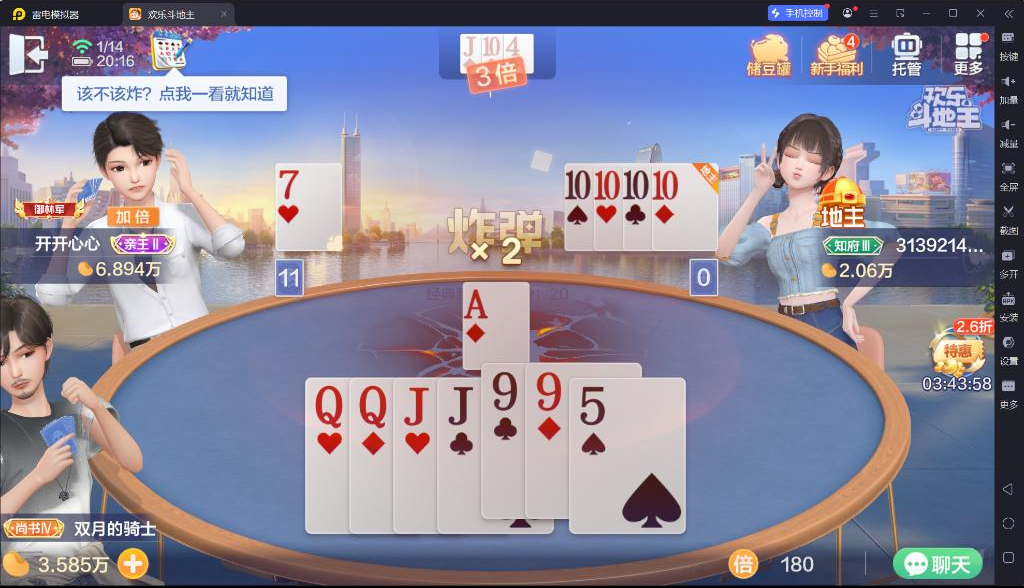A: (464, 288, 490, 322)
J: (446, 384, 475, 426), (402, 385, 430, 427), (461, 34, 479, 57)
Q: (312, 384, 346, 431), (355, 382, 388, 429)
five: (575, 384, 609, 428)
four: (505, 35, 522, 57)
nine: (532, 371, 563, 413), (490, 371, 519, 414)
seven: (277, 166, 301, 201)
ten: (565, 168, 593, 203), (622, 169, 651, 201), (652, 169, 681, 201), (594, 169, 622, 201), (482, 35, 502, 57)
